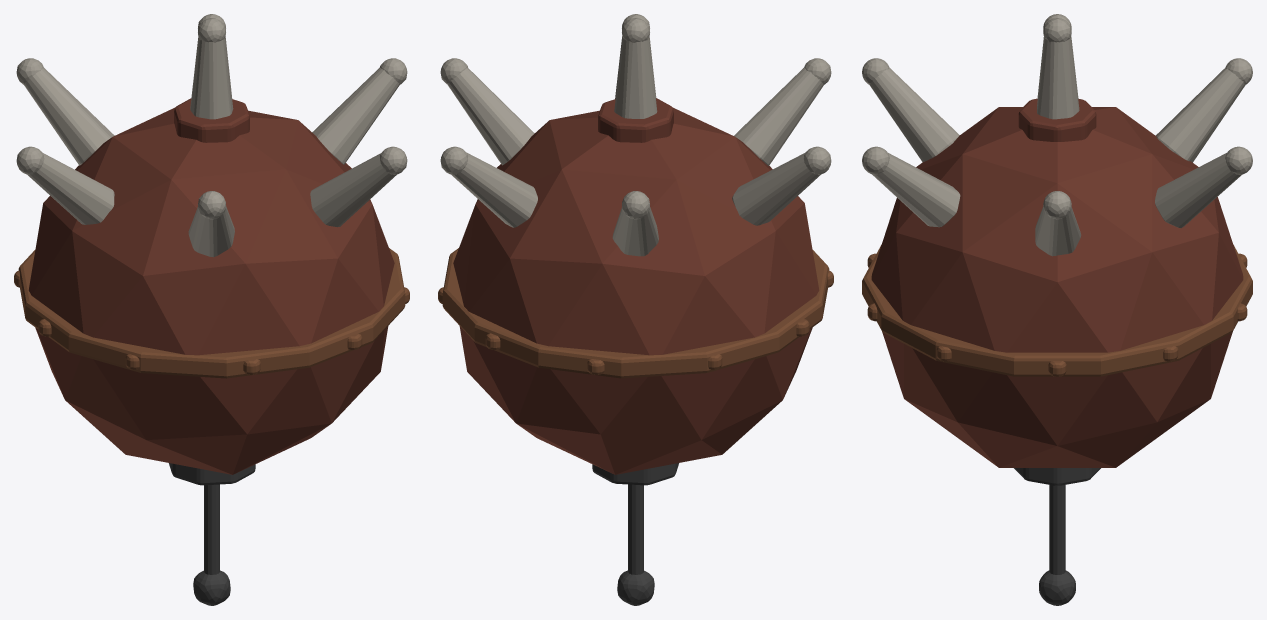
File: Naval_Mine.fbx
3 renders of one model, left to right at view 1: azimuth 30°, elevation 25°; view 2: azimuth 150°, elevation 25°; view 3: azimuth 270°, elevation 25°, orthographic.
Parts seen in each view (by area): view 1: SM_NavalMine_Drifting; view 2: SM_NavalMine_Drifting; view 3: SM_NavalMine_Drifting.
Part boxes in pixels (x1,y1,x2,y2): SM_NavalMine_Drifting: [14, 14, 409, 605]; SM_NavalMine_Drifting: [438, 14, 833, 605]; SM_NavalMine_Drifting: [862, 14, 1252, 605].
Bounding box in the file's own units: 146 × 211 × 128.
